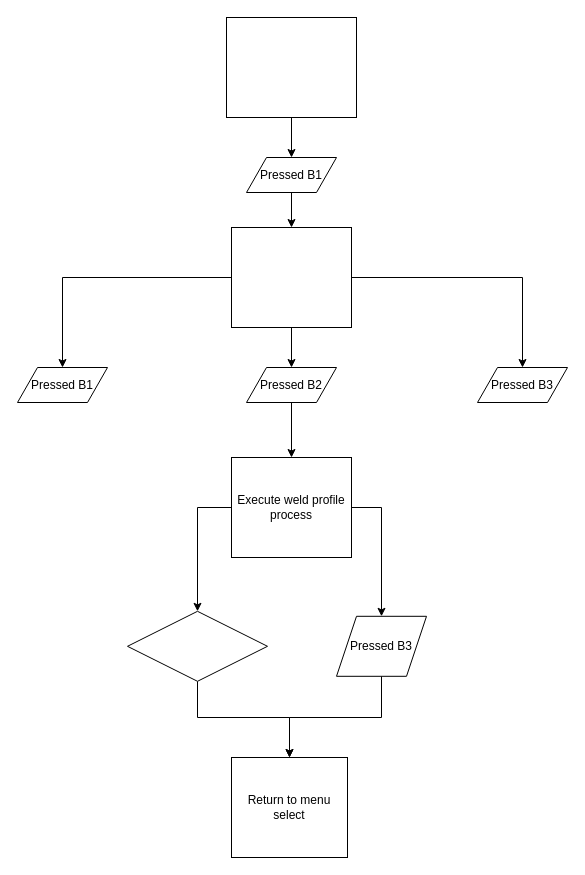
Image size: 585x875. Some labels were removed from this diagram. Each missing label, with the centre of its shape:
Beggin program "B1 - To start program": [291,67]
Completed weld profile: [197,645]
Menu select: [291,277]
